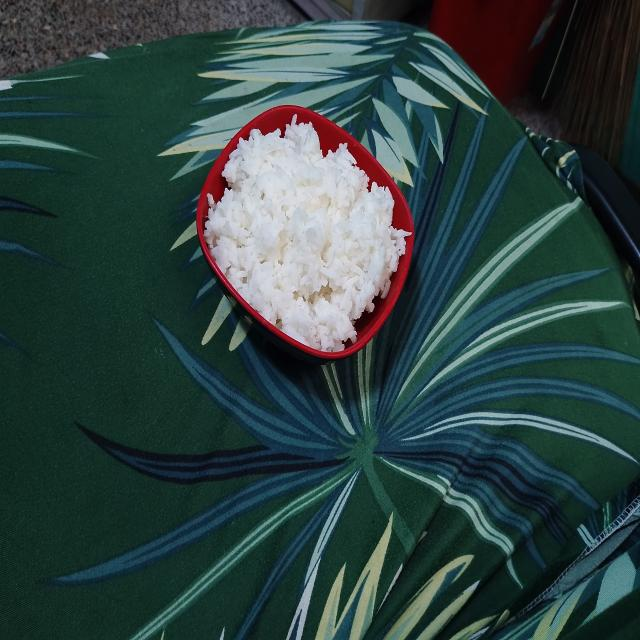Chicken -Chicken Inasal-: (205, 106, 408, 351)
